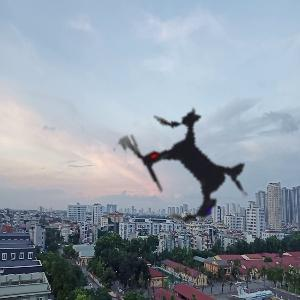drone: (85, 67, 290, 272)
